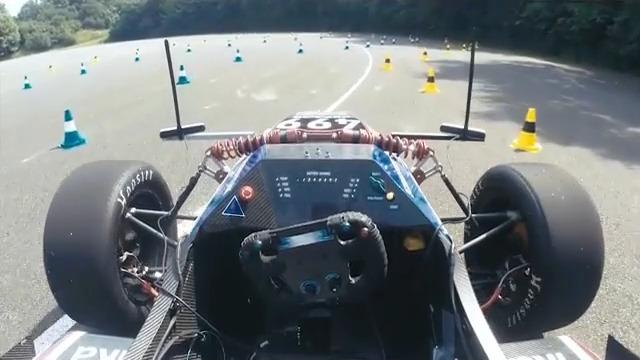blue_cone: (51, 103, 91, 148), (175, 61, 192, 84), (230, 45, 245, 64), (294, 38, 307, 55), (364, 37, 375, 50), (344, 38, 351, 53)
yellow_cone: (515, 101, 548, 155), (422, 65, 444, 92), (380, 52, 401, 76), (416, 47, 435, 58)
